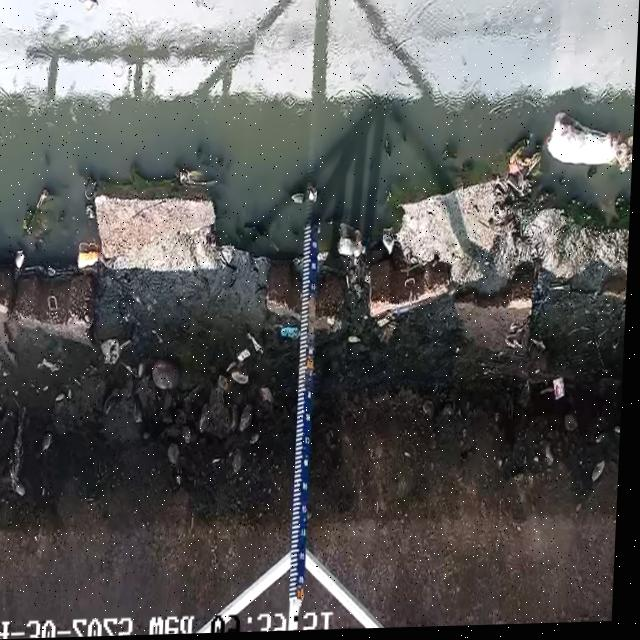water-meter: (284, 187, 325, 605)
